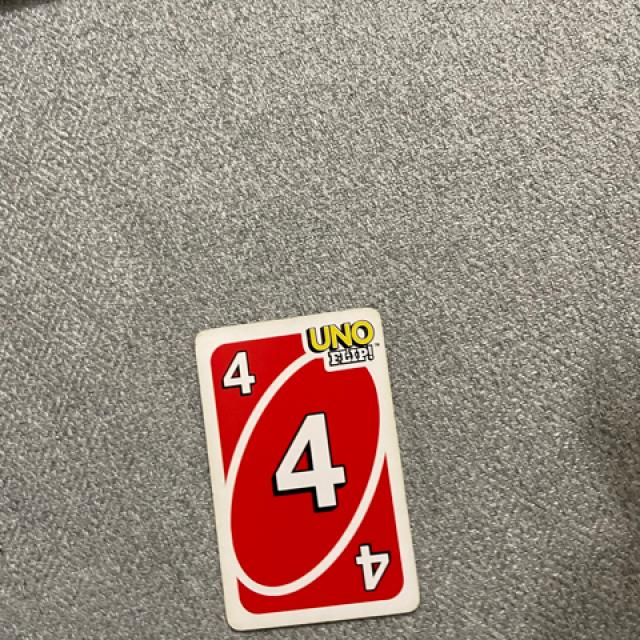lred-4: (211, 337, 273, 406)
